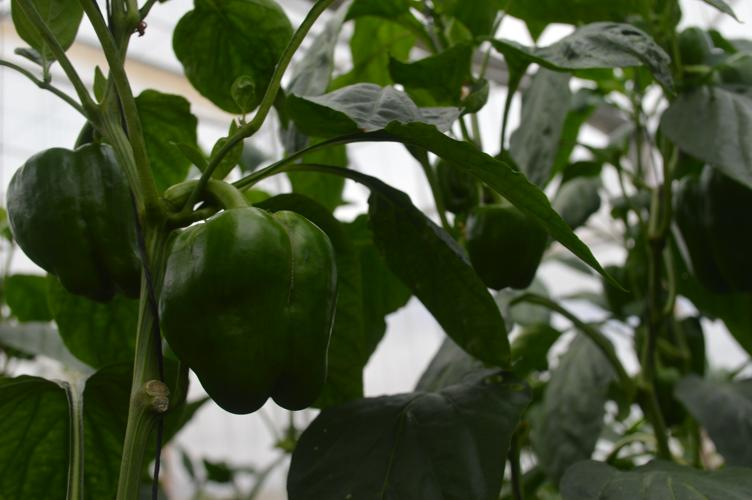BellPepper: (165, 210, 335, 409), (9, 144, 145, 291), (666, 165, 741, 300), (457, 201, 541, 289)
